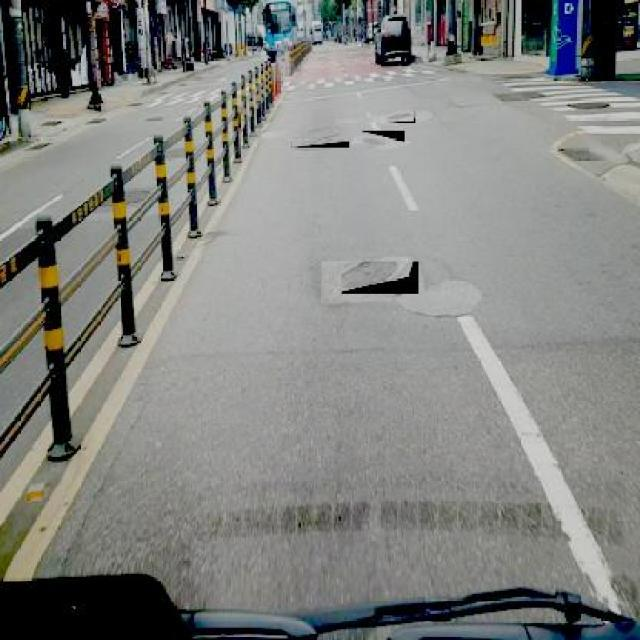Manhole: (342, 261, 418, 294), (360, 130, 405, 144), (290, 140, 350, 150), (384, 109, 416, 123)
